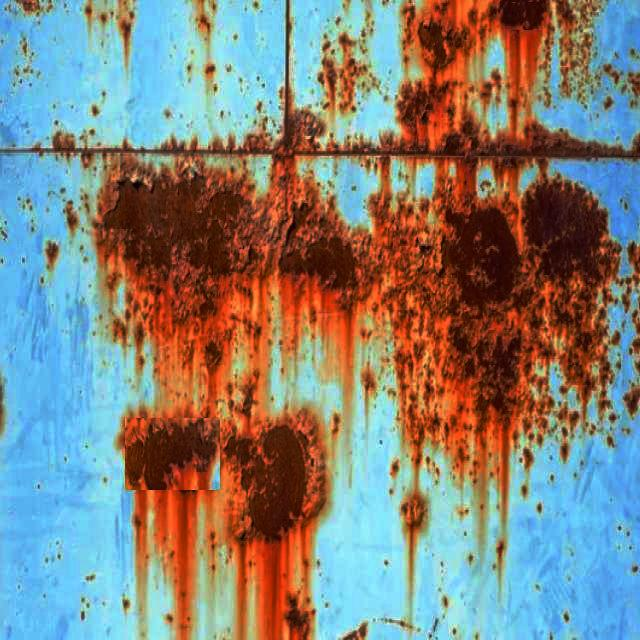Corrosion: (377, 181, 619, 458), (124, 414, 318, 616), (157, 272, 266, 506), (407, 108, 637, 214), (101, 175, 257, 324), (96, 202, 225, 380), (399, 0, 548, 152), (247, 177, 373, 350), (106, 111, 430, 166), (263, 183, 378, 306), (525, 180, 616, 280), (456, 208, 521, 304), (272, 110, 325, 206), (319, 33, 374, 111), (280, 238, 356, 288)
